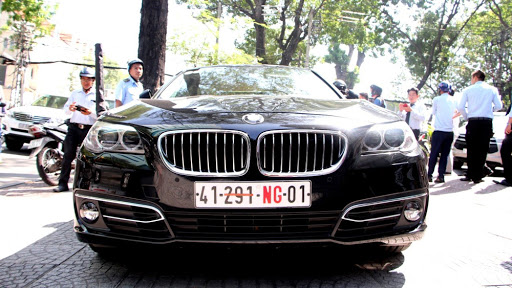plate: (193, 180, 311, 207)
